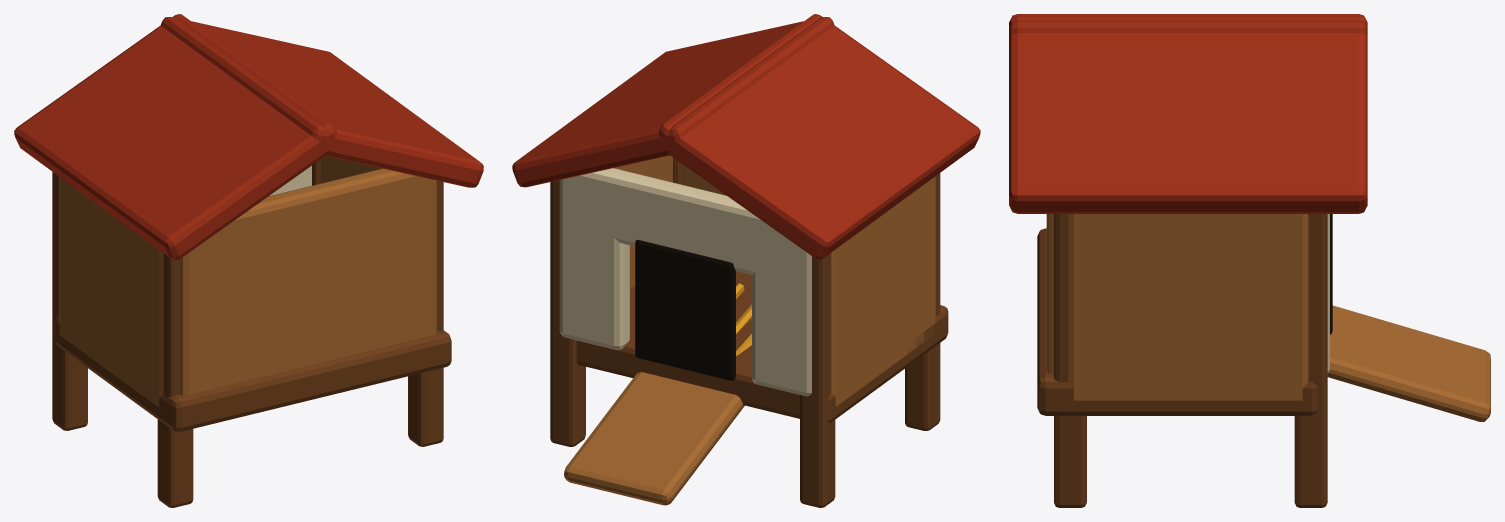
File: RabbitHutch.glb
3 renders of one model, left to right at view 1: azimuth 30°, elevation 25°; view 2: azimuth 150°, elevation 25°; view 3: azimuth 270°, elevation 25°, orthographic. The views are drawn at different scales.
Visible parts, largest first — view 1: RabbitHutch_Walls, RabbitHutch_Roof, RabbitHutch_Oak; view 2: RabbitHutch_Roof, RabbitHutch_Walls, RabbitHutch_EntranceRamp, RabbitHutch_Oak; view 3: RabbitHutch_Roof, RabbitHutch_Walls, RabbitHutch_Oak, RabbitHutch_EntranceRamp.
Part boxes in pixels (<box>): RabbitHutch_Walls: <box>59,156,436,407</box>; RabbitHutch_Roof: <box>14,14,483,260</box>; RabbitHutch_Oak: <box>52,159,451,507</box>; RabbitHutch_Roof: <box>512,14,980,259</box>; RabbitHutch_Walls: <box>559,155,935,406</box>; RabbitHutch_EntranceRamp: <box>564,239,744,505</box>; RabbitHutch_Oak: <box>550,157,948,507</box>; RabbitHutch_Roof: <box>1009,14,1367,213</box>; RabbitHutch_Walls: <box>1046,214,1329,400</box>; RabbitHutch_Oak: <box>1037,214,1327,507</box>; RabbitHutch_EntranceRamp: <box>1327,214,1490,421</box>.
Bounding box in the file's own units: 0.8896 × 0.9708 × 1.02.
